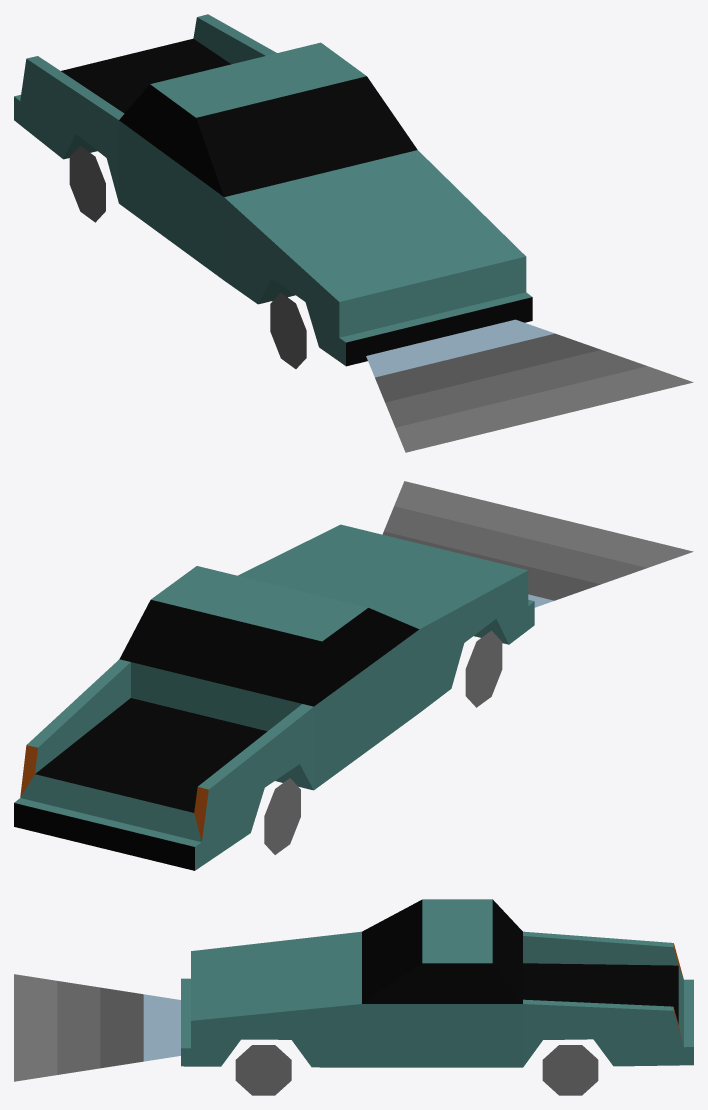
File: CARROBBR.glb
3 renders of one model, top to bottom at view 1: azimuth 30°, elevation 25°; view 2: azimuth 150°, elevation 25°; view 3: azimuth 270°, elevation 25°, orthographic. The views are drawn at different scales.
Parts seen in each view (by area): view 1: CARROBBR | archived geometry; view 2: CARROBBR | archived geometry; view 3: CARROBBR | archived geometry.
Part boxes in pixels (box(x1,y1,x2,y2)): CARROBBR | archived geometry: box(14, 14, 693, 452); CARROBBR | archived geometry: box(14, 481, 693, 870); CARROBBR | archived geometry: box(14, 899, 693, 1095).
Bounding box in the file's own units: 3.33 × 1.85 × 8.88.
